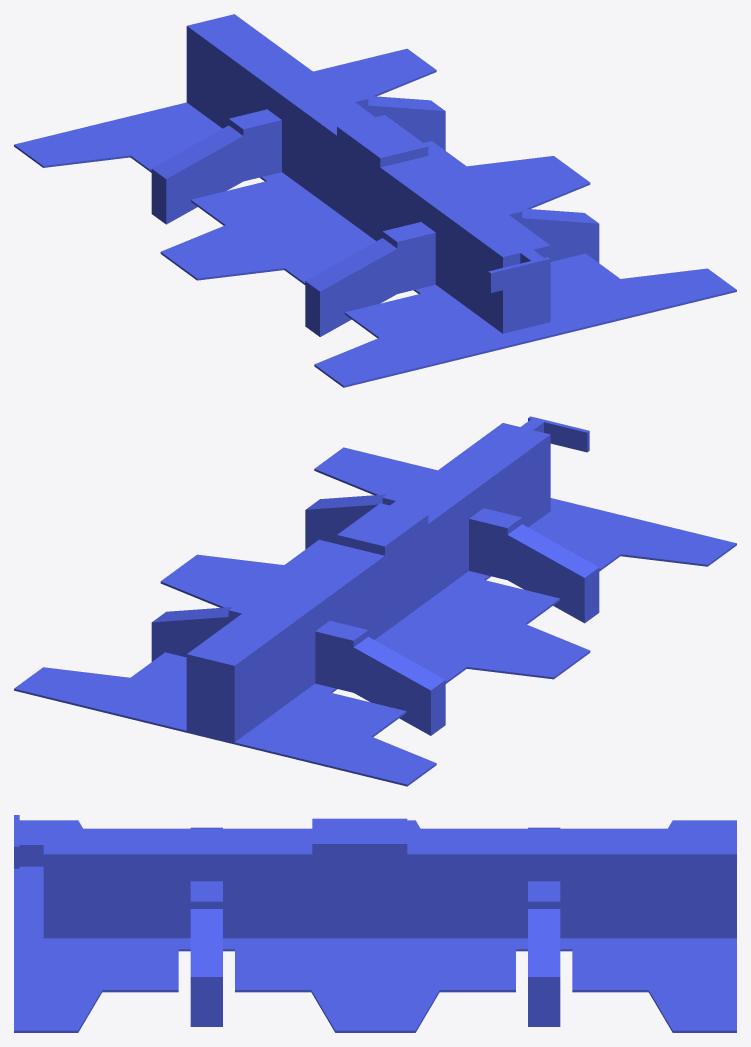
The model's file is chassis.dae.
The picture shows the model from 3 angles, top to bottom: view 1: azimuth 30°, elevation 25°; view 2: azimuth 150°, elevation 25°; view 3: azimuth 270°, elevation 25°; orthographic projection. The views are drawn at different scales.
Visible parts, largest first — view 1: node0; view 2: node0; view 3: node0.
Boxes of the visible parts, bbox=[...] form: node0: bbox=[14, 14, 736, 387]; node0: bbox=[14, 416, 736, 786]; node0: bbox=[14, 815, 736, 1032].
Bounding box in the file's own units: 0.62 × 0.9 × 0.166.
